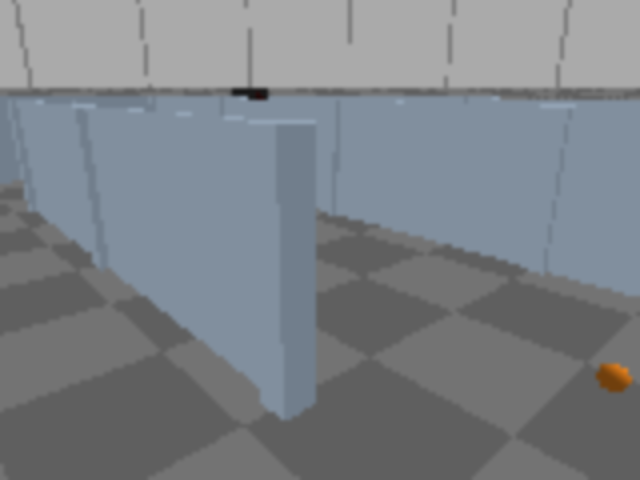puck: (593, 355, 636, 402)
